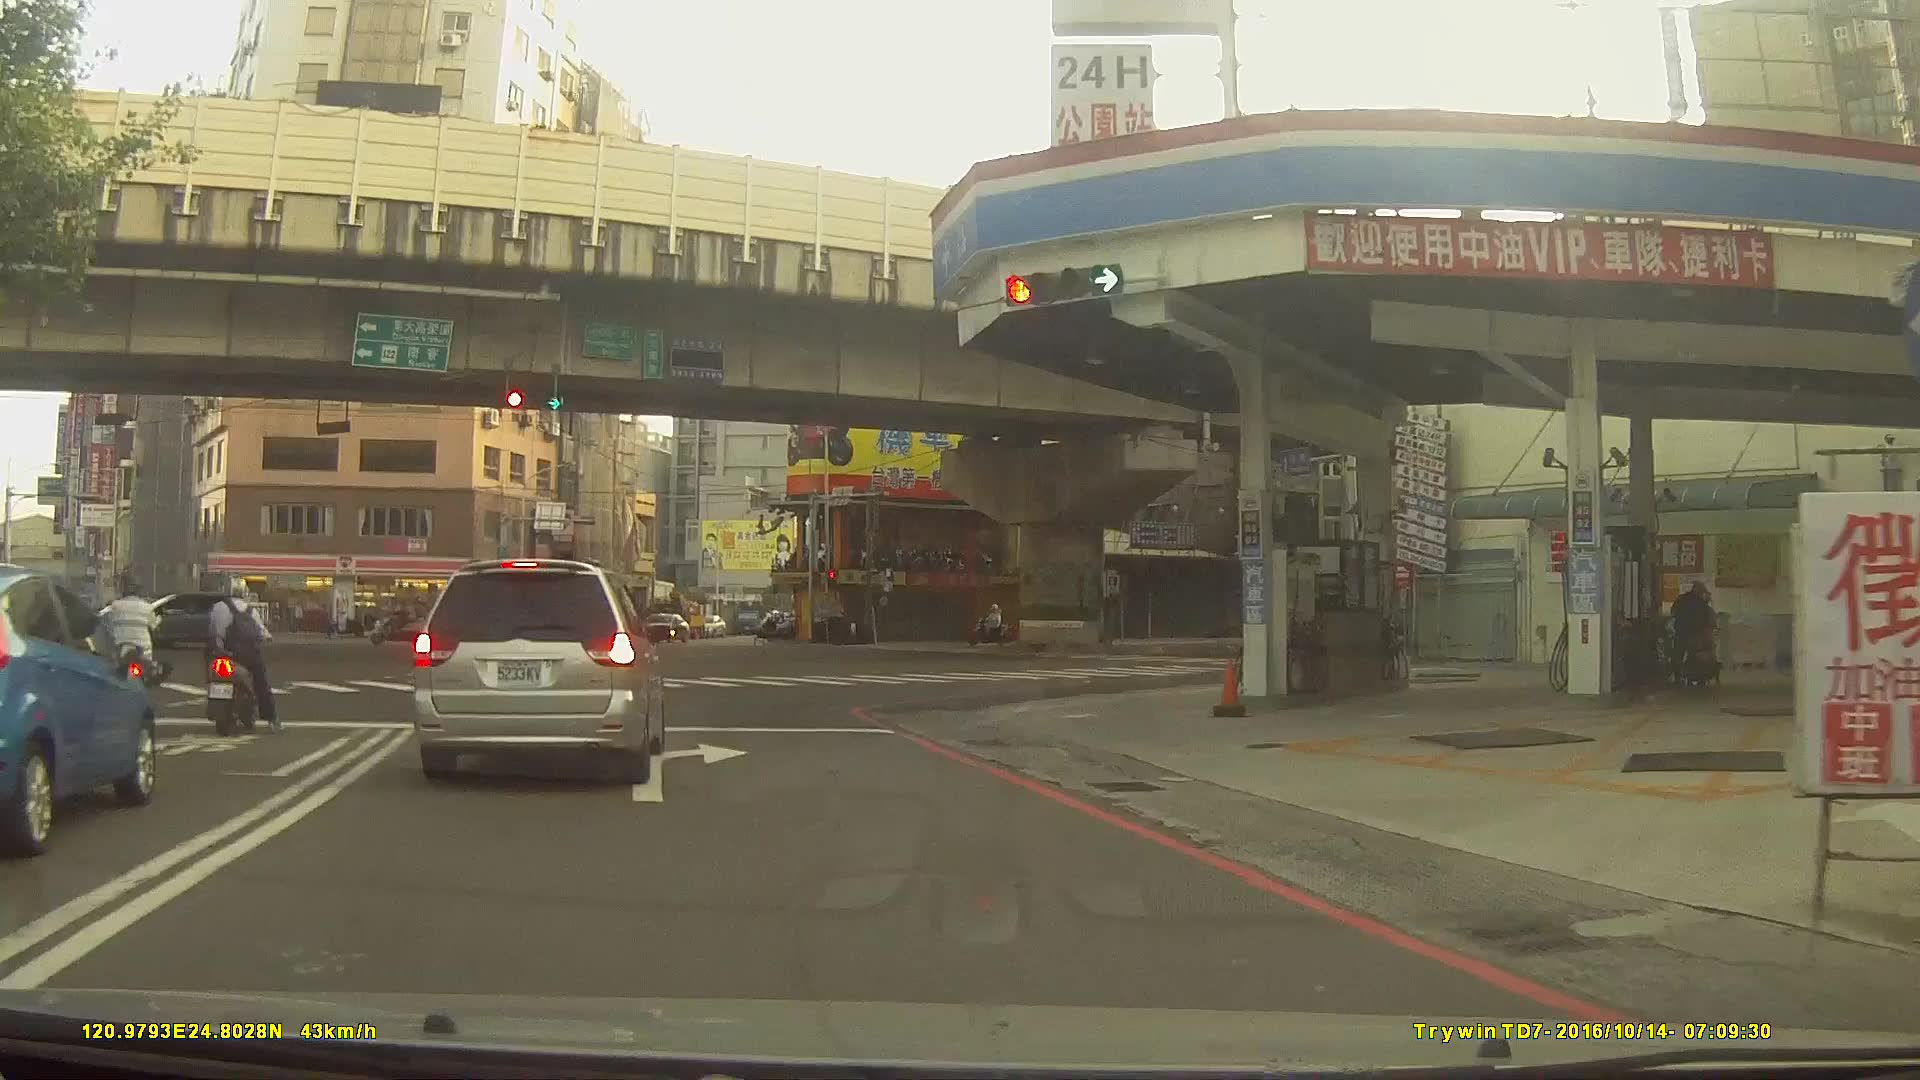rider: (203, 576, 276, 741), (99, 576, 168, 737), (367, 596, 424, 649), (972, 604, 1008, 647)
vehicle: (409, 557, 667, 784), (0, 562, 157, 858), (98, 589, 252, 646), (543, 606, 605, 633)
